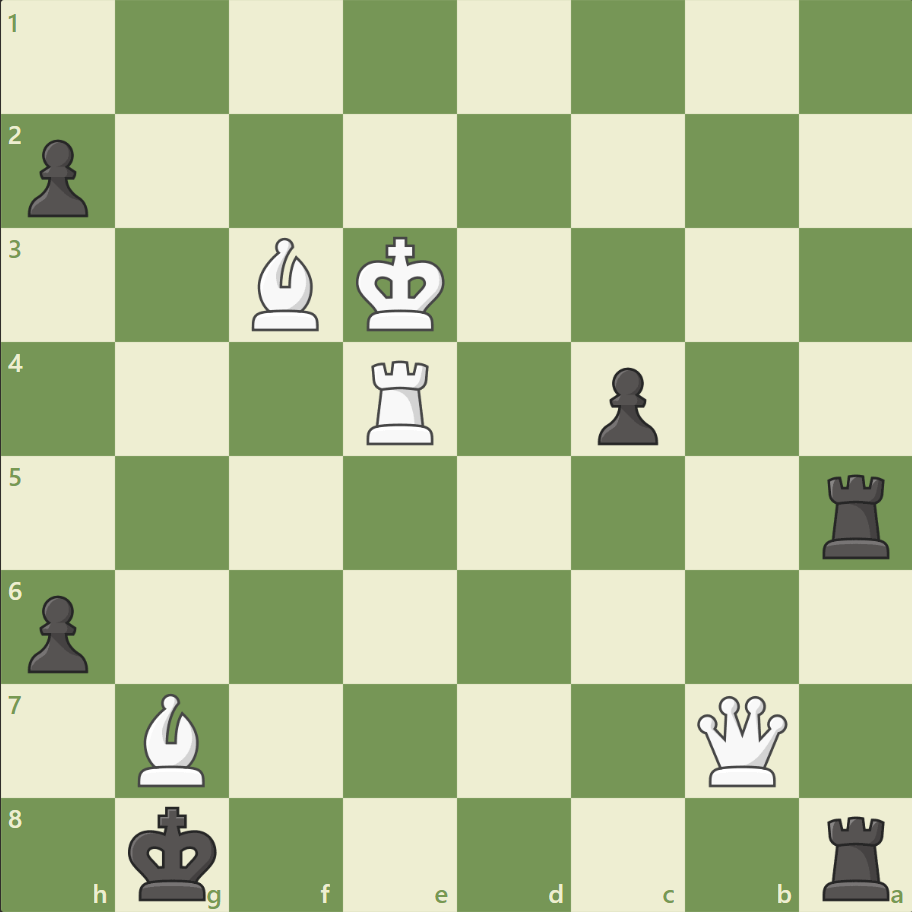B: (131, 687, 215, 790), (244, 233, 328, 336)
K: (351, 231, 451, 339)
Q: (691, 690, 790, 789)
R: (360, 352, 442, 449)
k: (124, 798, 224, 906)
p: (20, 586, 95, 677), (20, 132, 95, 223), (588, 359, 662, 450)
r: (814, 806, 897, 904), (814, 466, 897, 563)
